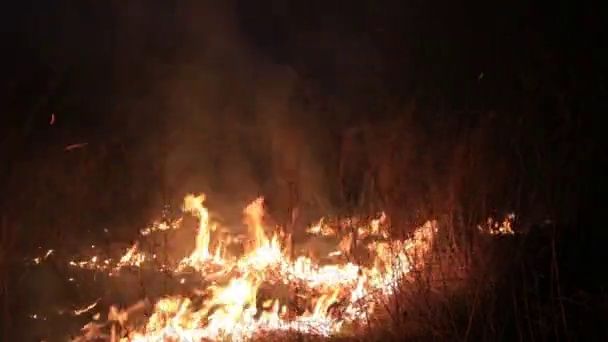fire: (109, 200, 434, 342), (491, 215, 514, 236)
